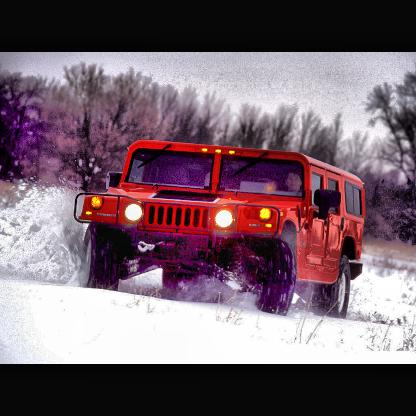AM General Hummer SUV 2000: (74, 140, 367, 320)
